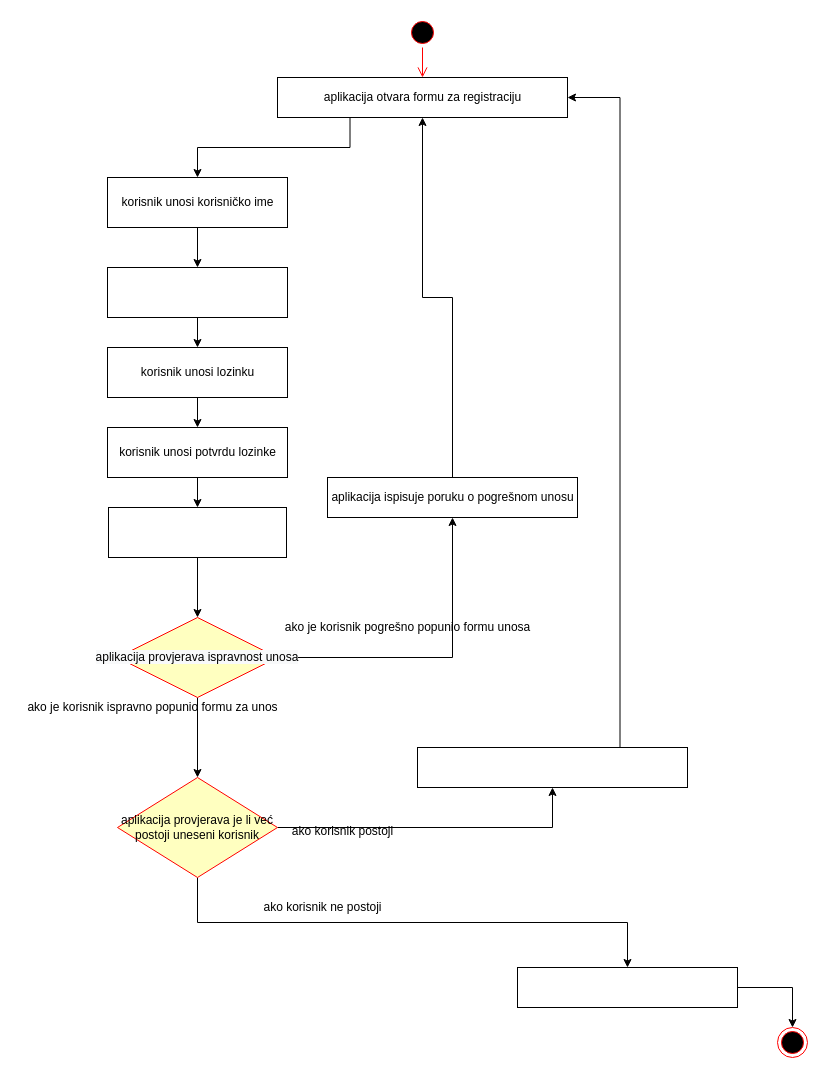
Image size: 825x1075. Some labels were removed from this diagram. The shapes that lost their labels are listed below. From the top down, each one's box as (x1, y1, x2, y2) in pixels, then its label:
(106, 266, 288, 318): korisnik unosi mail adresu
(108, 506, 286, 558): korisnik klikne na "Registriraj se"
(416, 746, 688, 788): aplikacija ispisuje poruku da korisnik postoji
(516, 966, 738, 1008): aplikacija stvara novi korisnički profil
